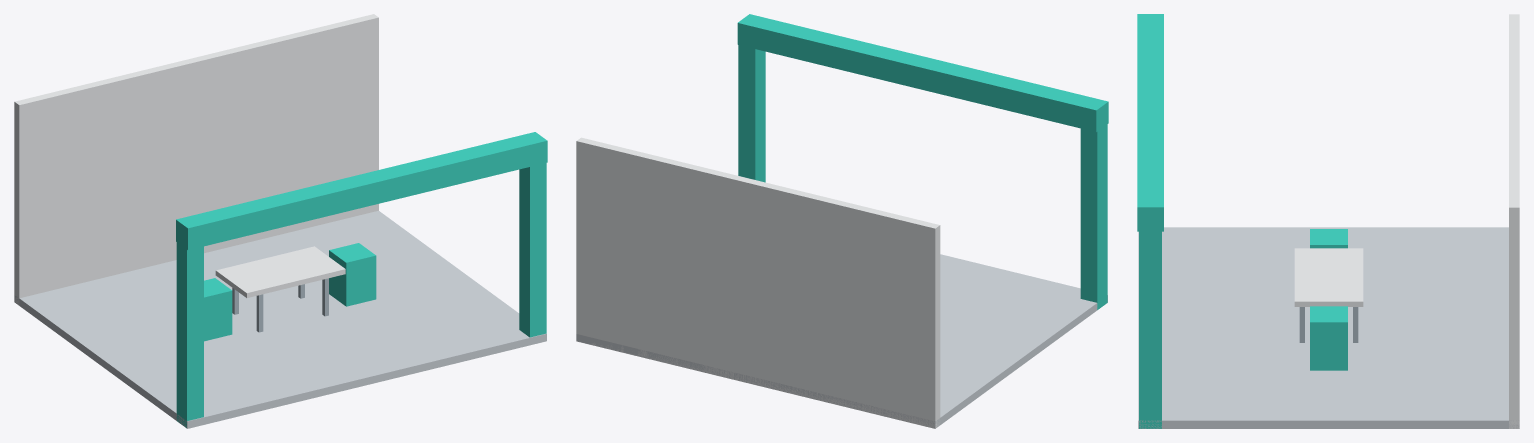
3 views of the same model, side by side, from view 1: azimuth 30°, elevation 25°; view 2: azimuth 150°, elevation 25°; view 3: azimuth 270°, elevation 25° (orthographic). The views are drawn at different scales.
Visible parts, largest first — view 1: Exhibition Booth Concept; view 2: Exhibition Booth Concept; view 3: Exhibition Booth Concept.
Boxes of the visible parts, x1,y1,x2,y2 form: Exhibition Booth Concept: (14,14,547,428); Exhibition Booth Concept: (576,14,1108,428); Exhibition Booth Concept: (1137,14,1519,428).
Bounding box in the file's own units: 6 × 3.2 × 5.02.
